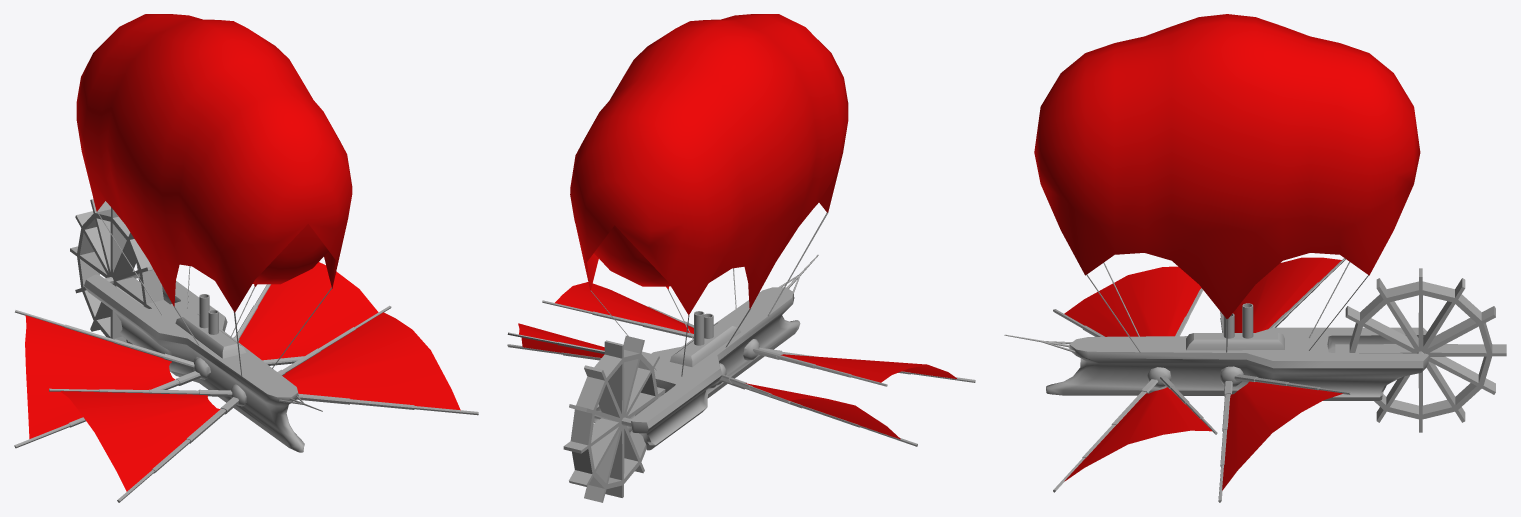
Rendered from ship_merchant_schooner.fbx.
The picture shows the model from 3 angles, left to right: view 1: azimuth 30°, elevation 25°; view 2: azimuth 150°, elevation 25°; view 3: azimuth 270°, elevation 25°; orthographic projection. The views are drawn at different scales.
Visible parts, largest first — view 1: polySurface14; view 2: polySurface14; view 3: polySurface14.
Part boxes in pixels (bbox=[...]): polySurface14: bbox=[14, 14, 478, 502]; polySurface14: bbox=[507, 14, 975, 502]; polySurface14: bbox=[1004, 14, 1506, 502].
Bounding box in the file's own units: 478 × 444 × 498.
